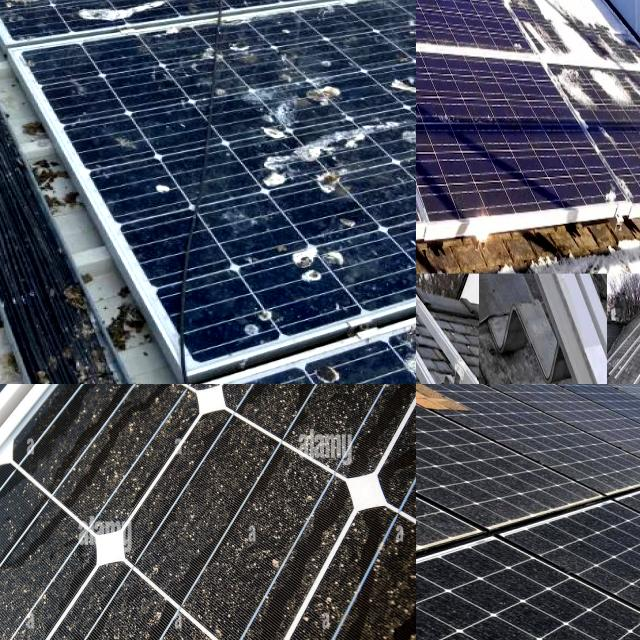bird: (259, 110, 396, 200), (269, 235, 357, 282), (303, 74, 338, 112), (368, 65, 416, 91), (403, 201, 416, 242)
dust: (170, 442, 286, 608), (61, 394, 166, 518), (504, 398, 620, 491), (270, 384, 386, 466), (416, 439, 503, 531), (0, 502, 43, 640), (416, 591, 523, 640), (587, 559, 640, 640)
panel: (537, 0, 620, 56), (559, 60, 640, 115), (416, 0, 470, 56), (416, 0, 474, 49), (492, 0, 575, 25), (597, 181, 640, 223), (416, 0, 434, 52), (416, 0, 448, 17)
